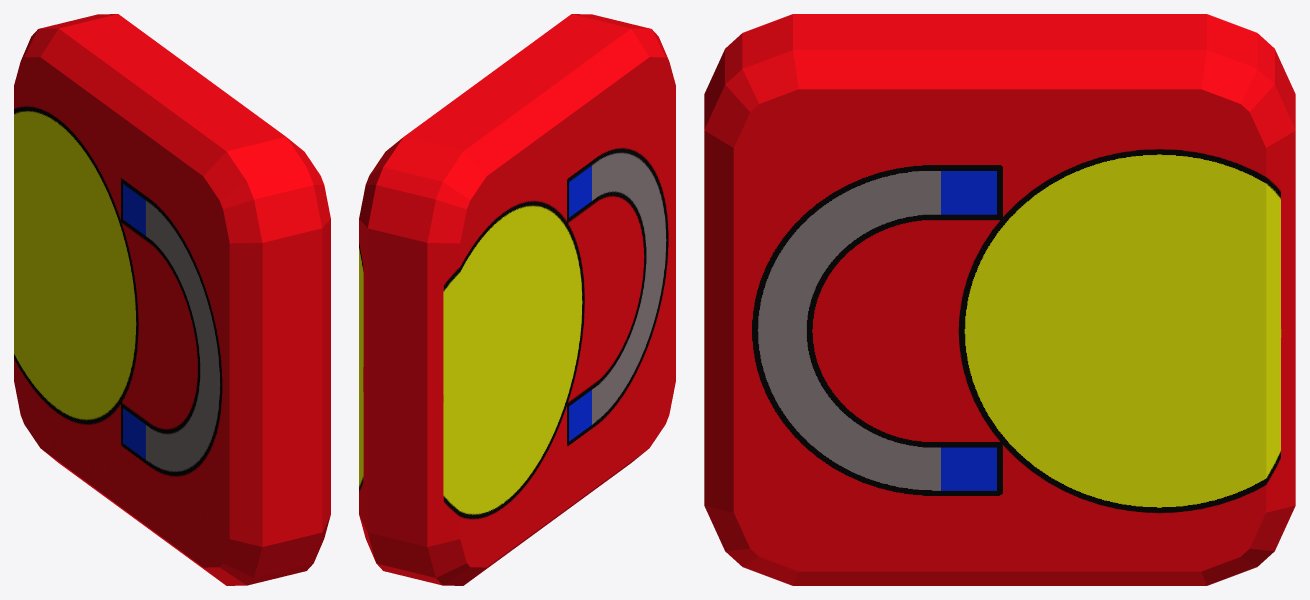
The model's file is magnet_powerup.fbx.
The picture shows the model from 3 angles, left to right: view 1: azimuth 30°, elevation 25°; view 2: azimuth 150°, elevation 25°; view 3: azimuth 270°, elevation 25°; orthographic projection. The views are drawn at different scales.
Parts seen in each view (by area): view 1: Cube; view 2: Cube; view 3: Cube.
Part boxes in pixels (box(x1,y1,x2,y2)): Cube: box(14, 14, 330, 585); Cube: box(359, 14, 675, 585); Cube: box(704, 14, 1295, 585).
Size of the model in its own units: 48.74 by 200 by 200.
